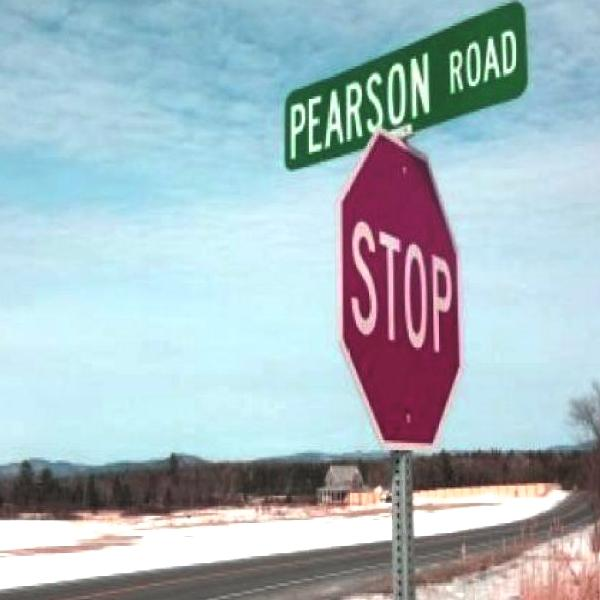stop_sign: (332, 137, 460, 448)
